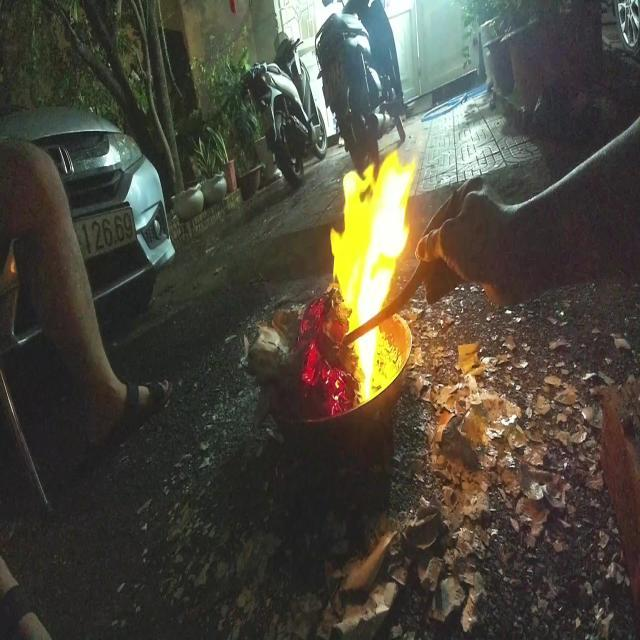Fire: (328, 148, 421, 403)
